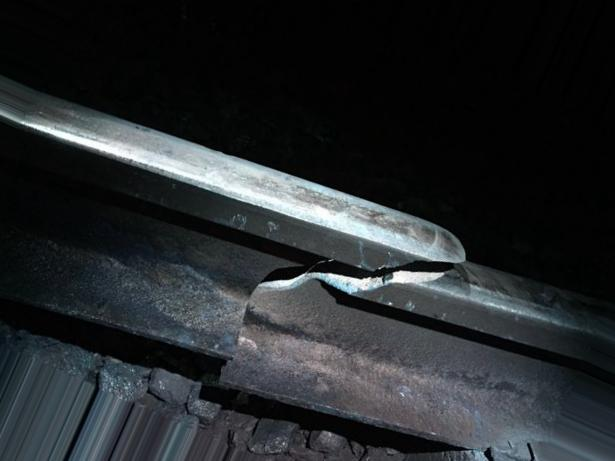tracks_fault: (195, 142, 501, 411)
